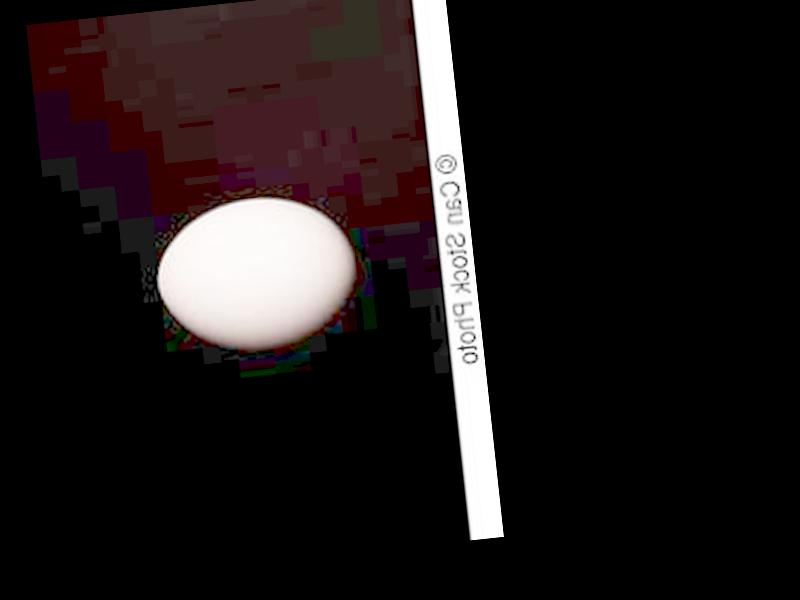Eggs: (150, 189, 365, 356)
